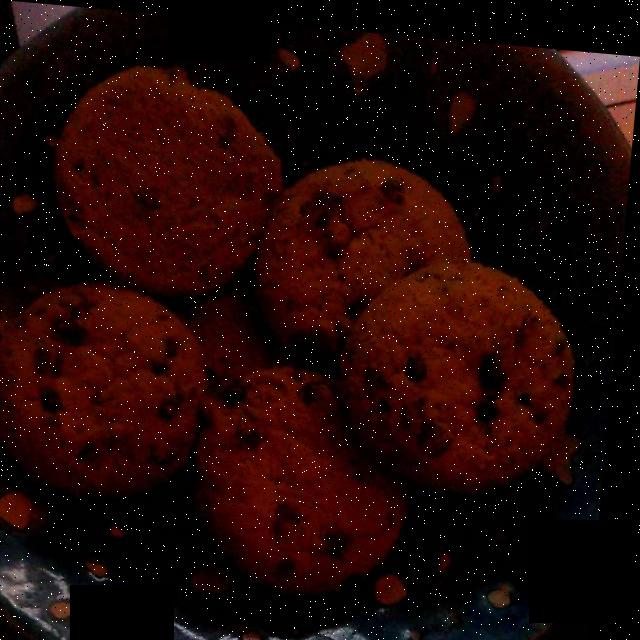cookies: (13, 79, 585, 579)
